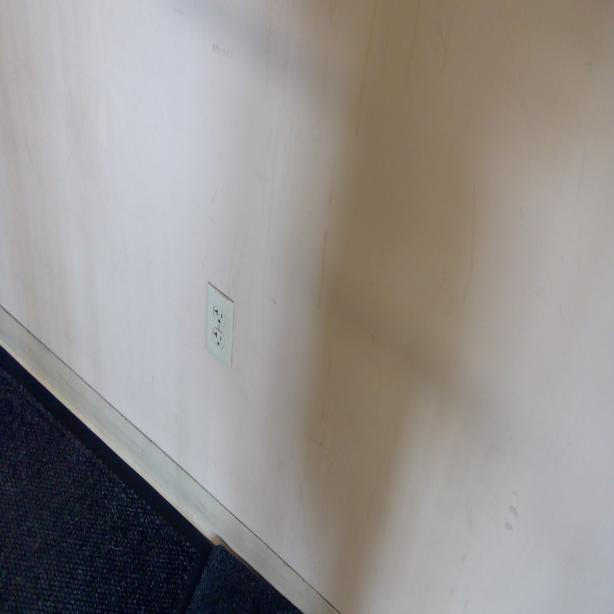typeb: (212, 304, 226, 326), (211, 330, 224, 351)
